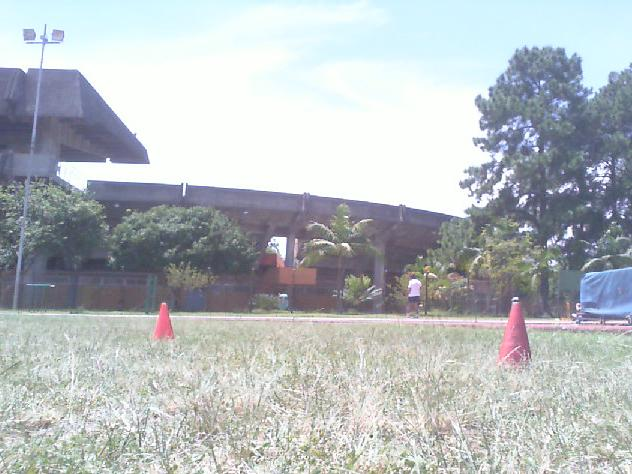0 cone: (496, 302, 532, 370), (152, 302, 174, 342)
